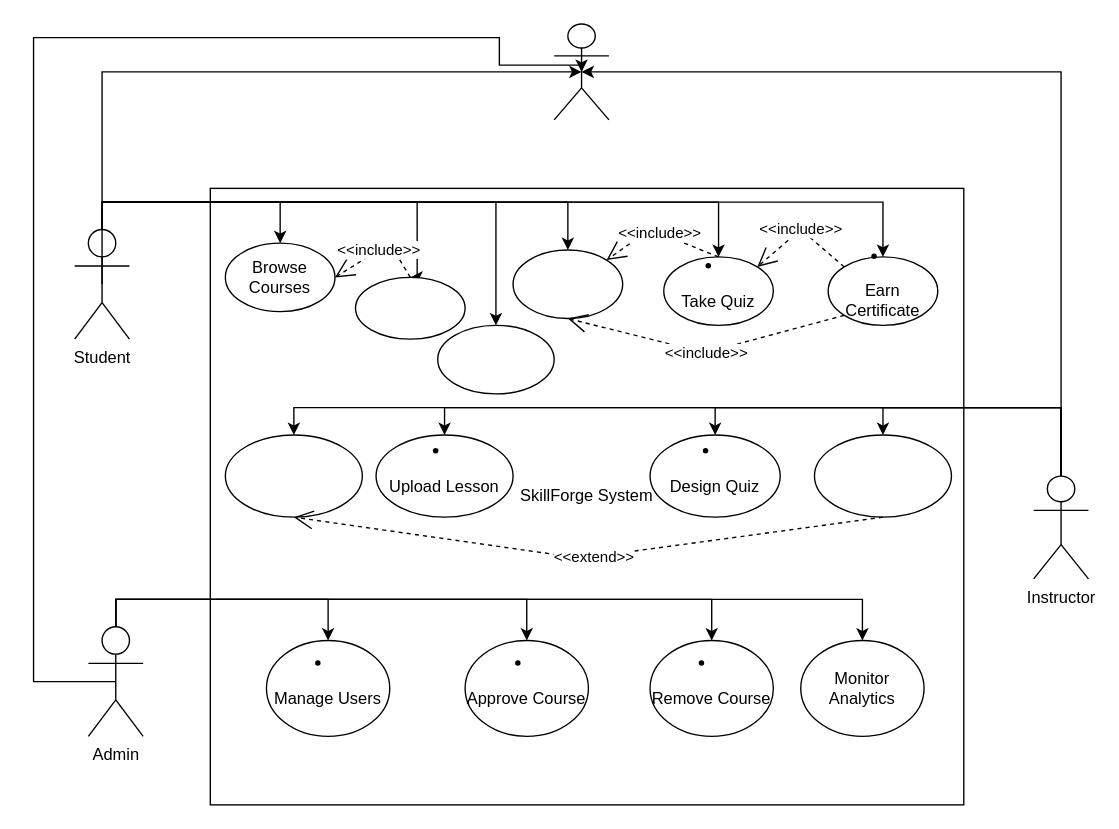
Some shapes in this 1119 by 829 pixel diagram are drawn without their labels. Each missing label, with the centre of its shape:
Analytics: the point at 495,359
Complete Lesson: the point at 567,284
Create Course: the point at 293,475
Enroll in Course: the point at 409,307
Manage Course: the point at 882,475
User: the point at 581,71
